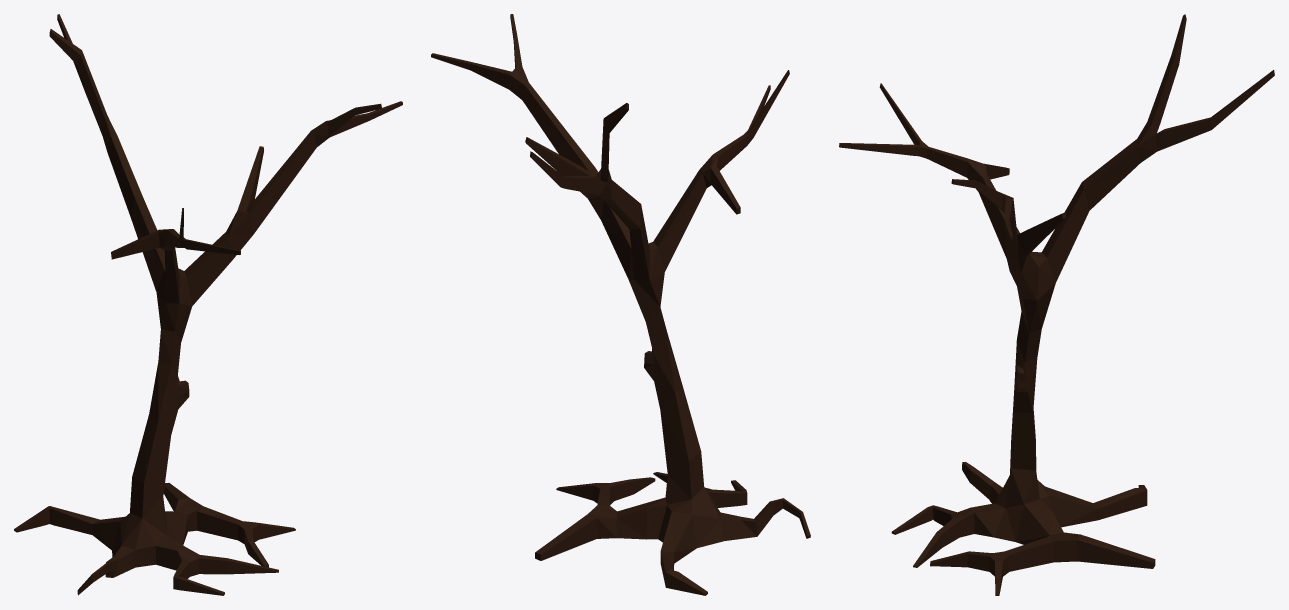
The model's file is Tree Witchered_2.fbx.
3 renders of one model, left to right at view 1: azimuth 30°, elevation 25°; view 2: azimuth 150°, elevation 25°; view 3: azimuth 270°, elevation 25°, orthographic. The views are drawn at different scales.
Visible parts, largest first — view 1: Tree Witchered_2; view 2: Tree Witchered_2; view 3: Tree Witchered_2.
Boxes of the visible parts, box(x1,y1,x2,y2) form: Tree Witchered_2: box(14, 14, 402, 595); Tree Witchered_2: box(431, 14, 810, 595); Tree Witchered_2: box(839, 14, 1274, 595).
Bounding box in the file's own units: 4.38 × 5.77 × 4.54.
